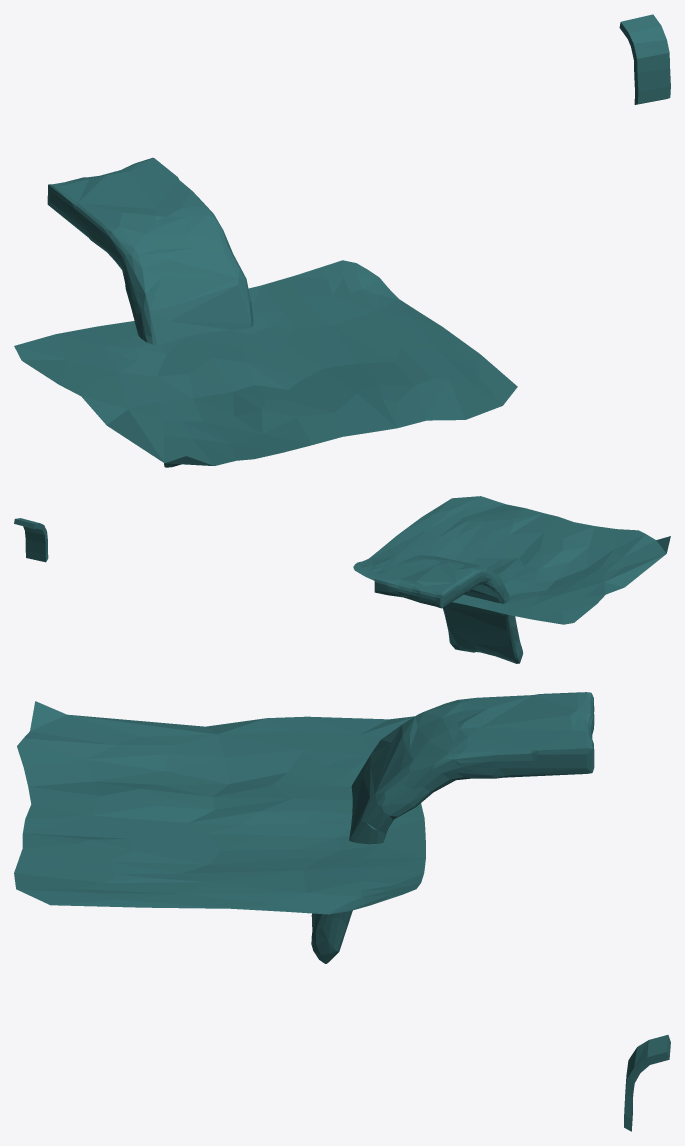
Rendered from lakeWater.fbx.
3 views of the same model, one above another, from view 1: azimuth 30°, elevation 25°; view 2: azimuth 150°, elevation 25°; view 3: azimuth 270°, elevation 25° (orthographic). The views are drawn at different scales.
Parts seen in each view (by area): view 1: Object_22; view 2: Object_22; view 3: Object_22.
Boxes of the visible parts, x1,y1,x2,y2 form: Object_22: (14, 14, 670, 467); Object_22: (14, 496, 670, 663); Object_22: (14, 692, 670, 1131).
Size of the model in its own units: 4591 by 1161 by 3092.
